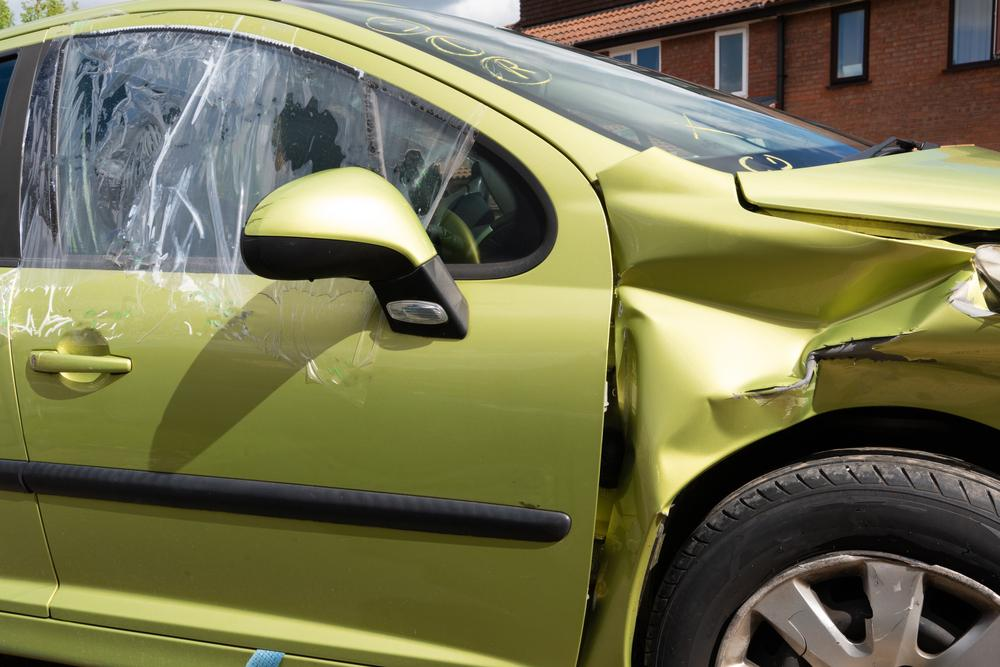dent: (615, 239, 1000, 513)
